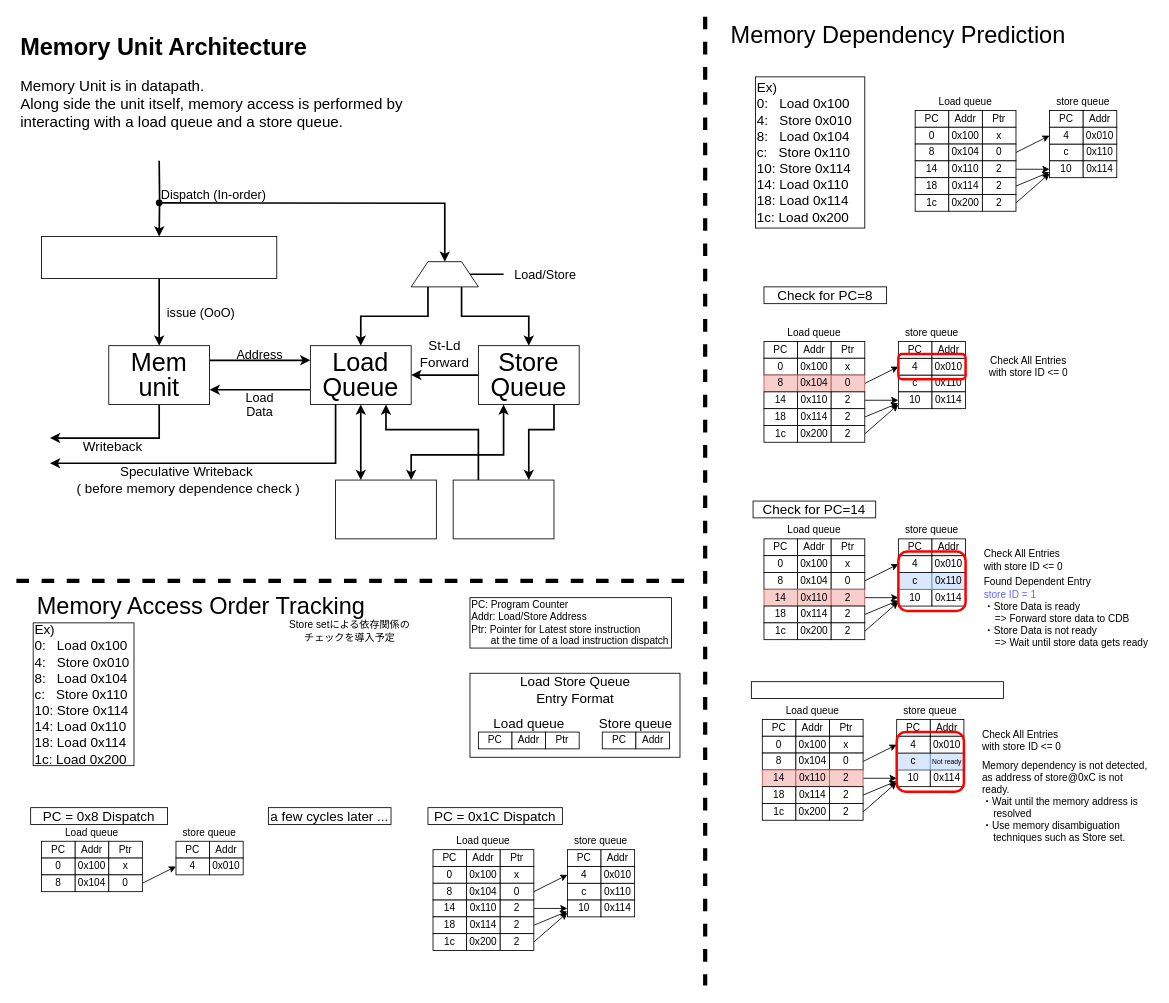
Image size: 1169x1003. Some labels were removed from this diagram. The shapes that lost their labels are listed below. From the top down, each one's centre as x and y in pixels, then its label:
At pixel 159 257: "Instruction queue".
At pixel 385 509: "TLB".
At pixel 503 509: "L1 D$".
At pixel 877 689: "Check for PC=14 (Address is not ready)".
